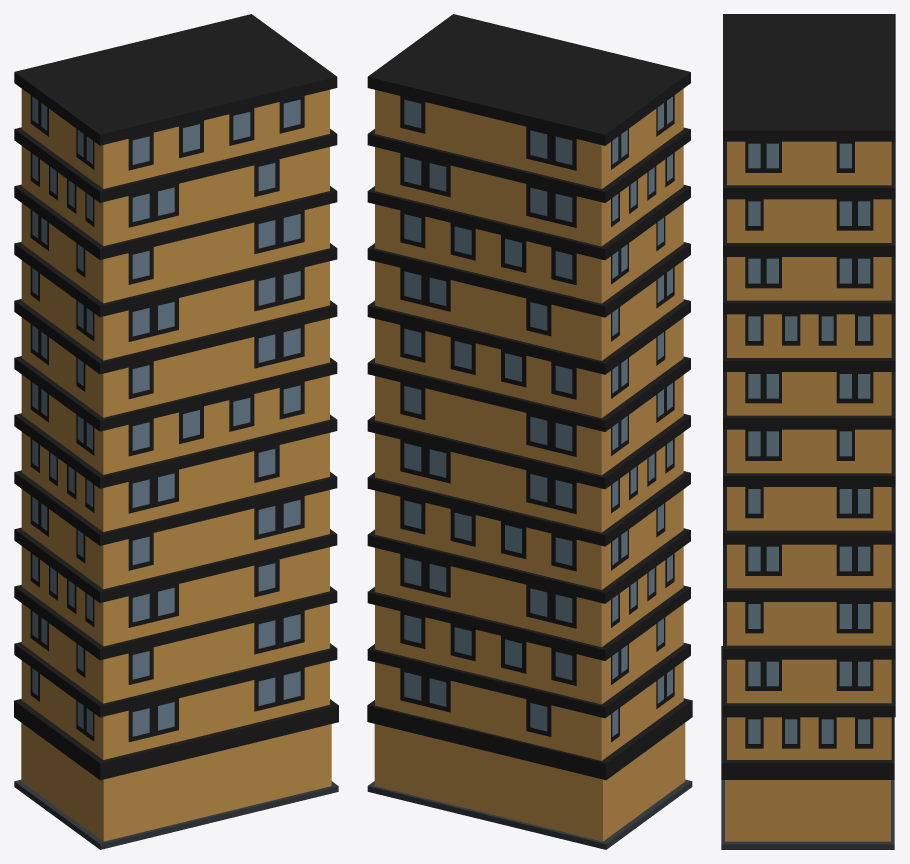
The model's file is sky yellow.fbx.
The picture shows the model from 3 angles, left to right: view 1: azimuth 30°, elevation 25°; view 2: azimuth 150°, elevation 25°; view 3: azimuth 270°, elevation 25°; orthographic projection.
Parts seen in each view (by area): view 1: skyscraper base yellow; view 2: skyscraper base yellow; view 3: skyscraper base yellow.
Part boxes in pixels (x1,y1,x2,y2): skyscraper base yellow: (14,14,338,849); skyscraper base yellow: (367,14,692,849); skyscraper base yellow: (721,14,895,849).
Bounding box in the file's own units: 8.75 × 25.04 × 5.5.
